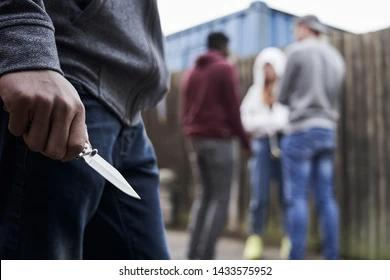Knife: (0, 0, 173, 259), (288, 17, 348, 260), (183, 34, 241, 256), (243, 46, 289, 255), (0, 71, 91, 161), (82, 147, 142, 201)
